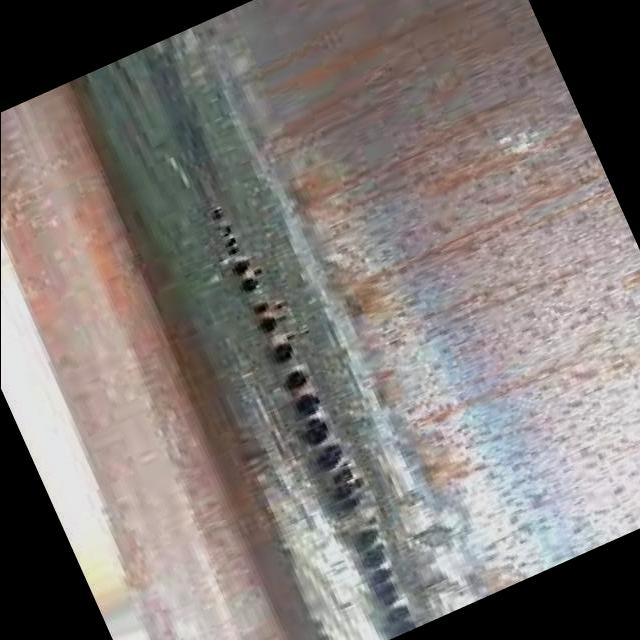defect: (249, 298, 419, 639), (207, 199, 266, 299)
